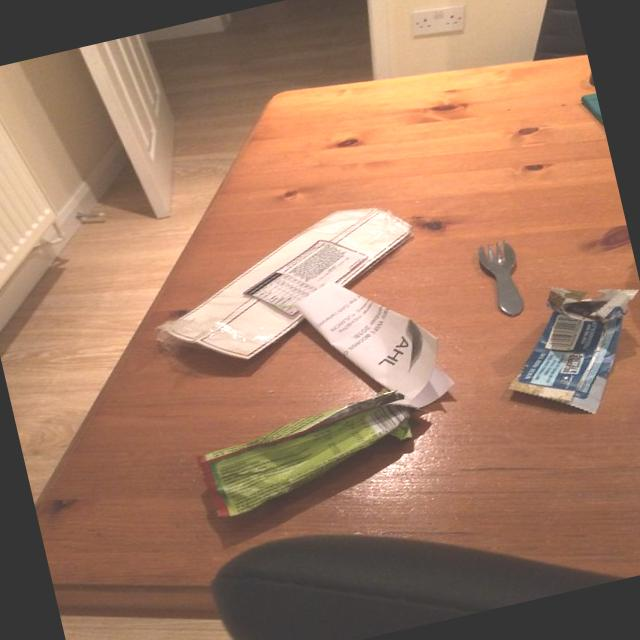Recycle: (189, 385, 441, 523), (292, 259, 462, 426)
Trash: (134, 195, 446, 382), (485, 266, 640, 433), (471, 234, 535, 323)
